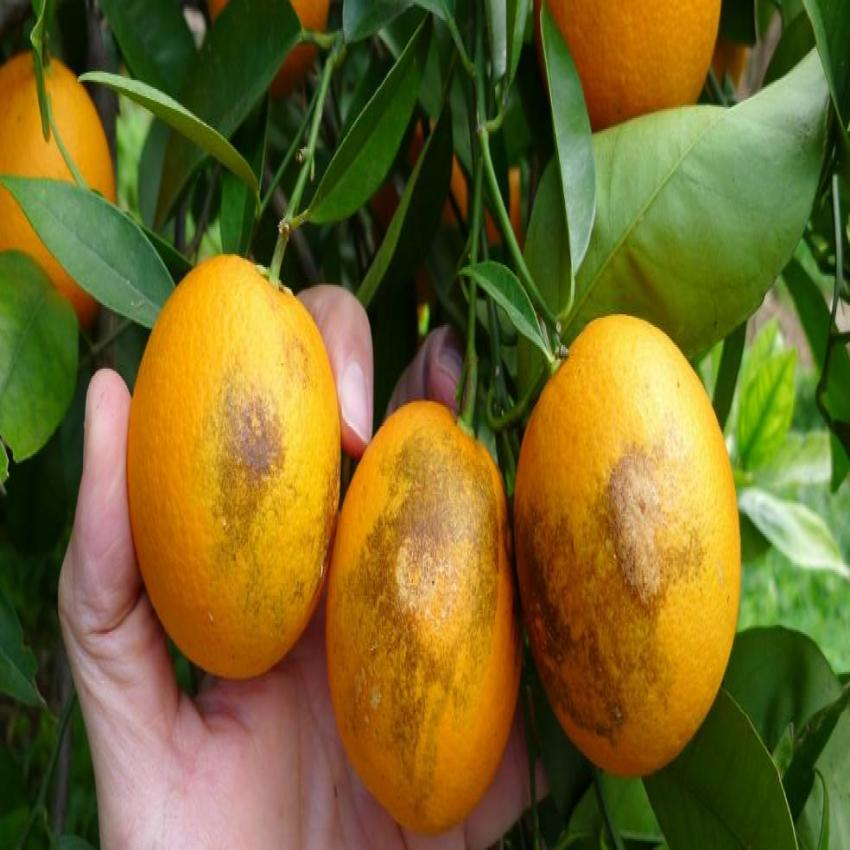Mal estado: (508, 297, 755, 749), (121, 237, 349, 699), (323, 391, 528, 839)
